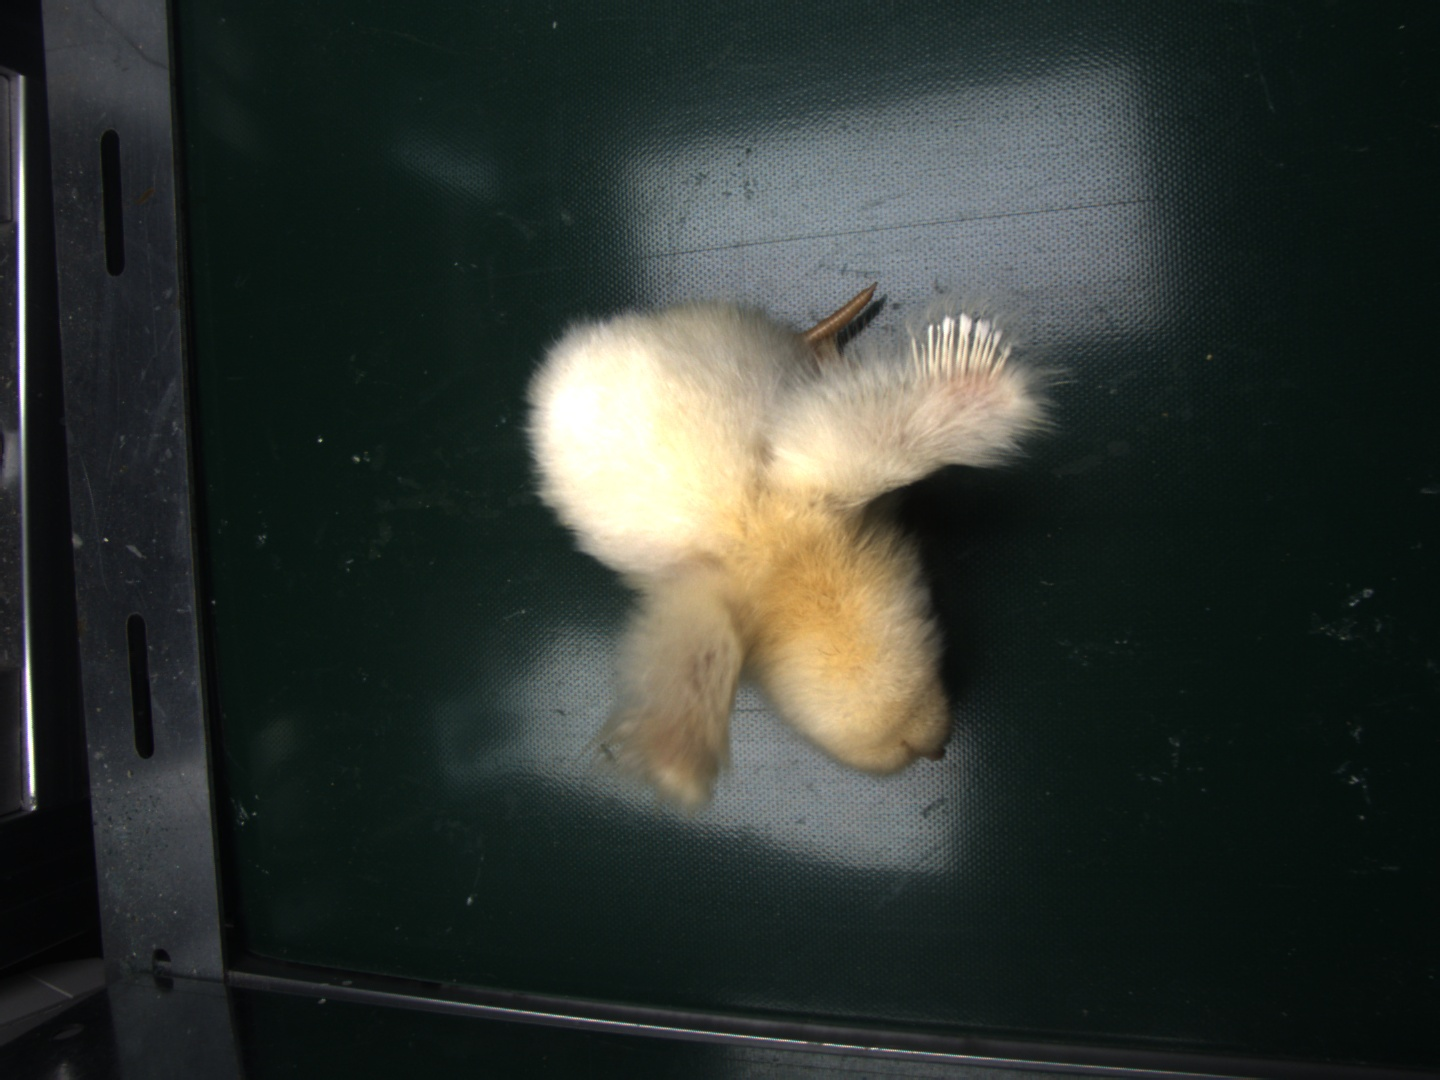male: (915, 313, 1013, 381)
